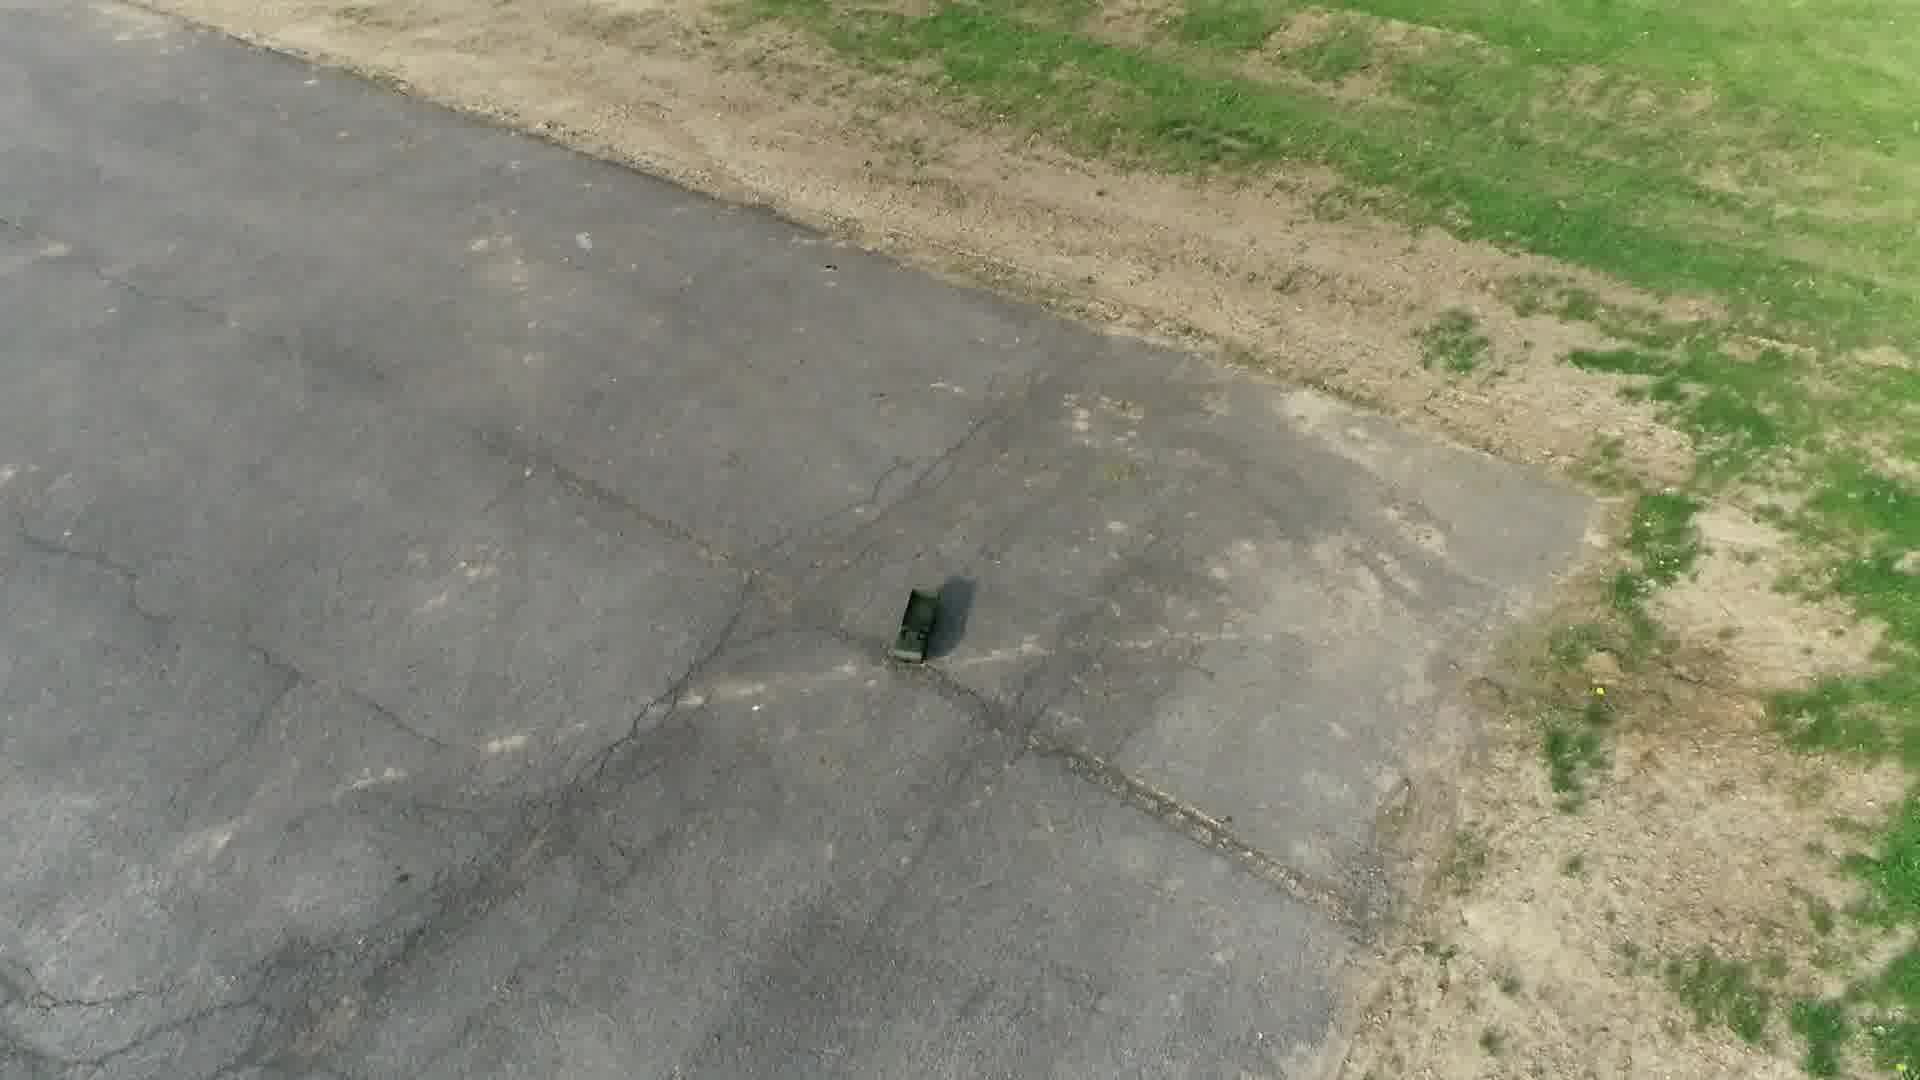transporter9: (880, 583, 947, 669)
